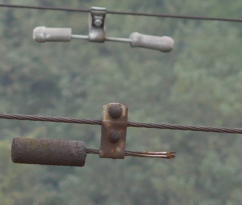damper: (27, 3, 176, 53)
damper_defect: (7, 99, 180, 169)
